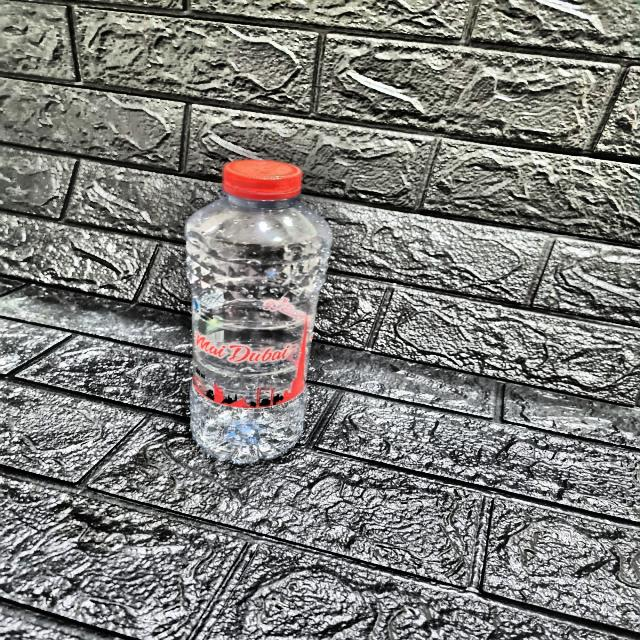Bottles: (158, 140, 374, 488)
